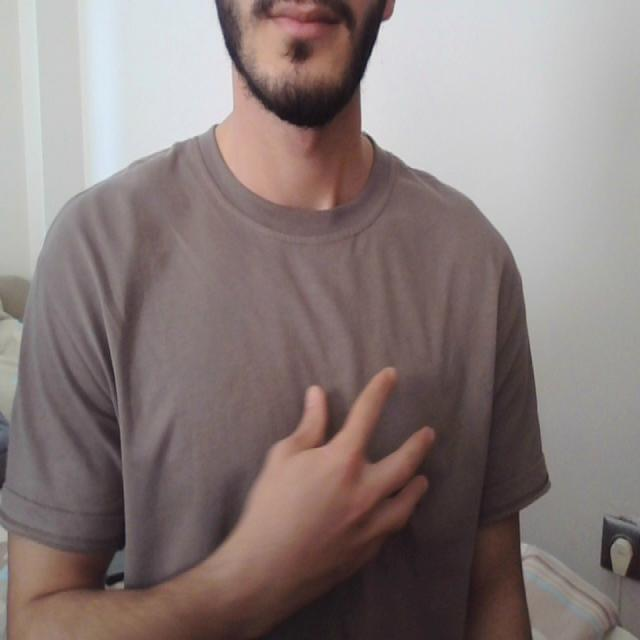Anne: (108, 360, 500, 584)
